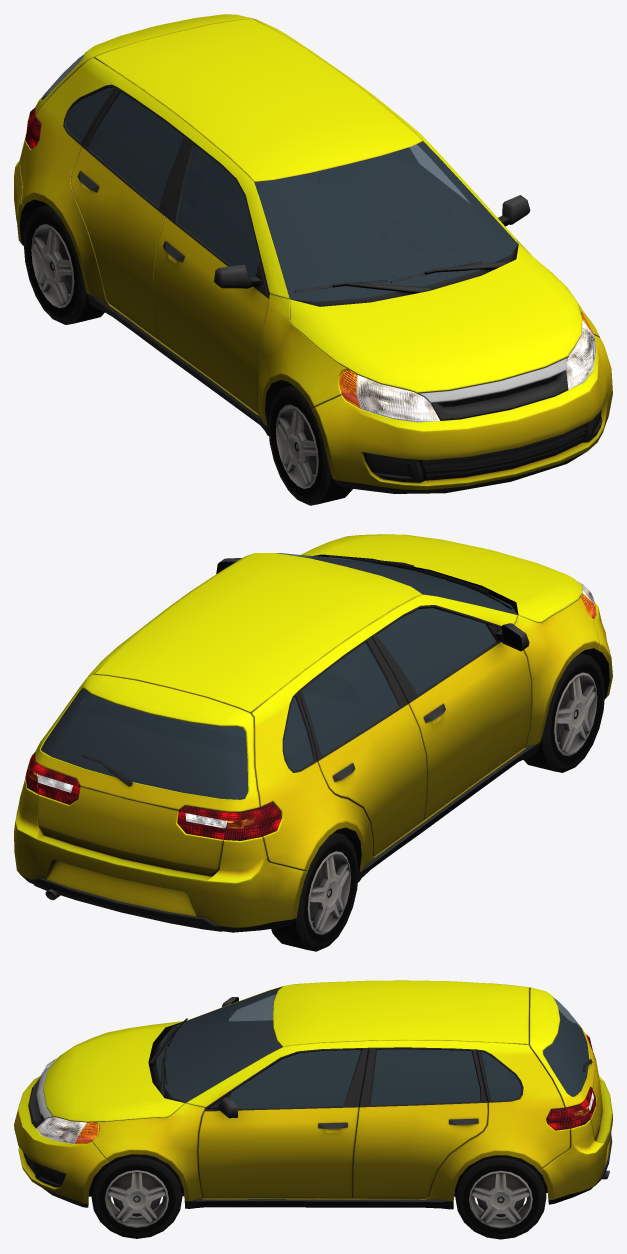
Rendered from road-hatch.glb.
3 renders of one model, top to bottom at view 1: azimuth 30°, elevation 25°; view 2: azimuth 150°, elevation 25°; view 3: azimuth 270°, elevation 25°, orthographic. The views are drawn at different scales.
Parts seen in each view (by area): view 1: Body, Wheel_FR, Wheel_RR; view 2: Body, Wheel_RR, Wheel_FR; view 3: Body, Wheel_FL, Wheel_RL.
Boxes of the visible parts, x1,y1,x2,y2 form: Body: (14,14,612,493); Wheel_FR: (268,385,352,505); Wheel_RR: (23,204,104,324); Body: (14,534,612,932); Wheel_RR: (271,832,358,951); Wheel_FR: (523,653,604,772); Body: (14,980,612,1209); Wheel_FL: (91,1154,182,1238); Wheel_RL: (455,1155,546,1239).
Size of the model in its own units: 1.8 by 1.4 by 4.1.
Materials: 5 (4 with a texture image).
